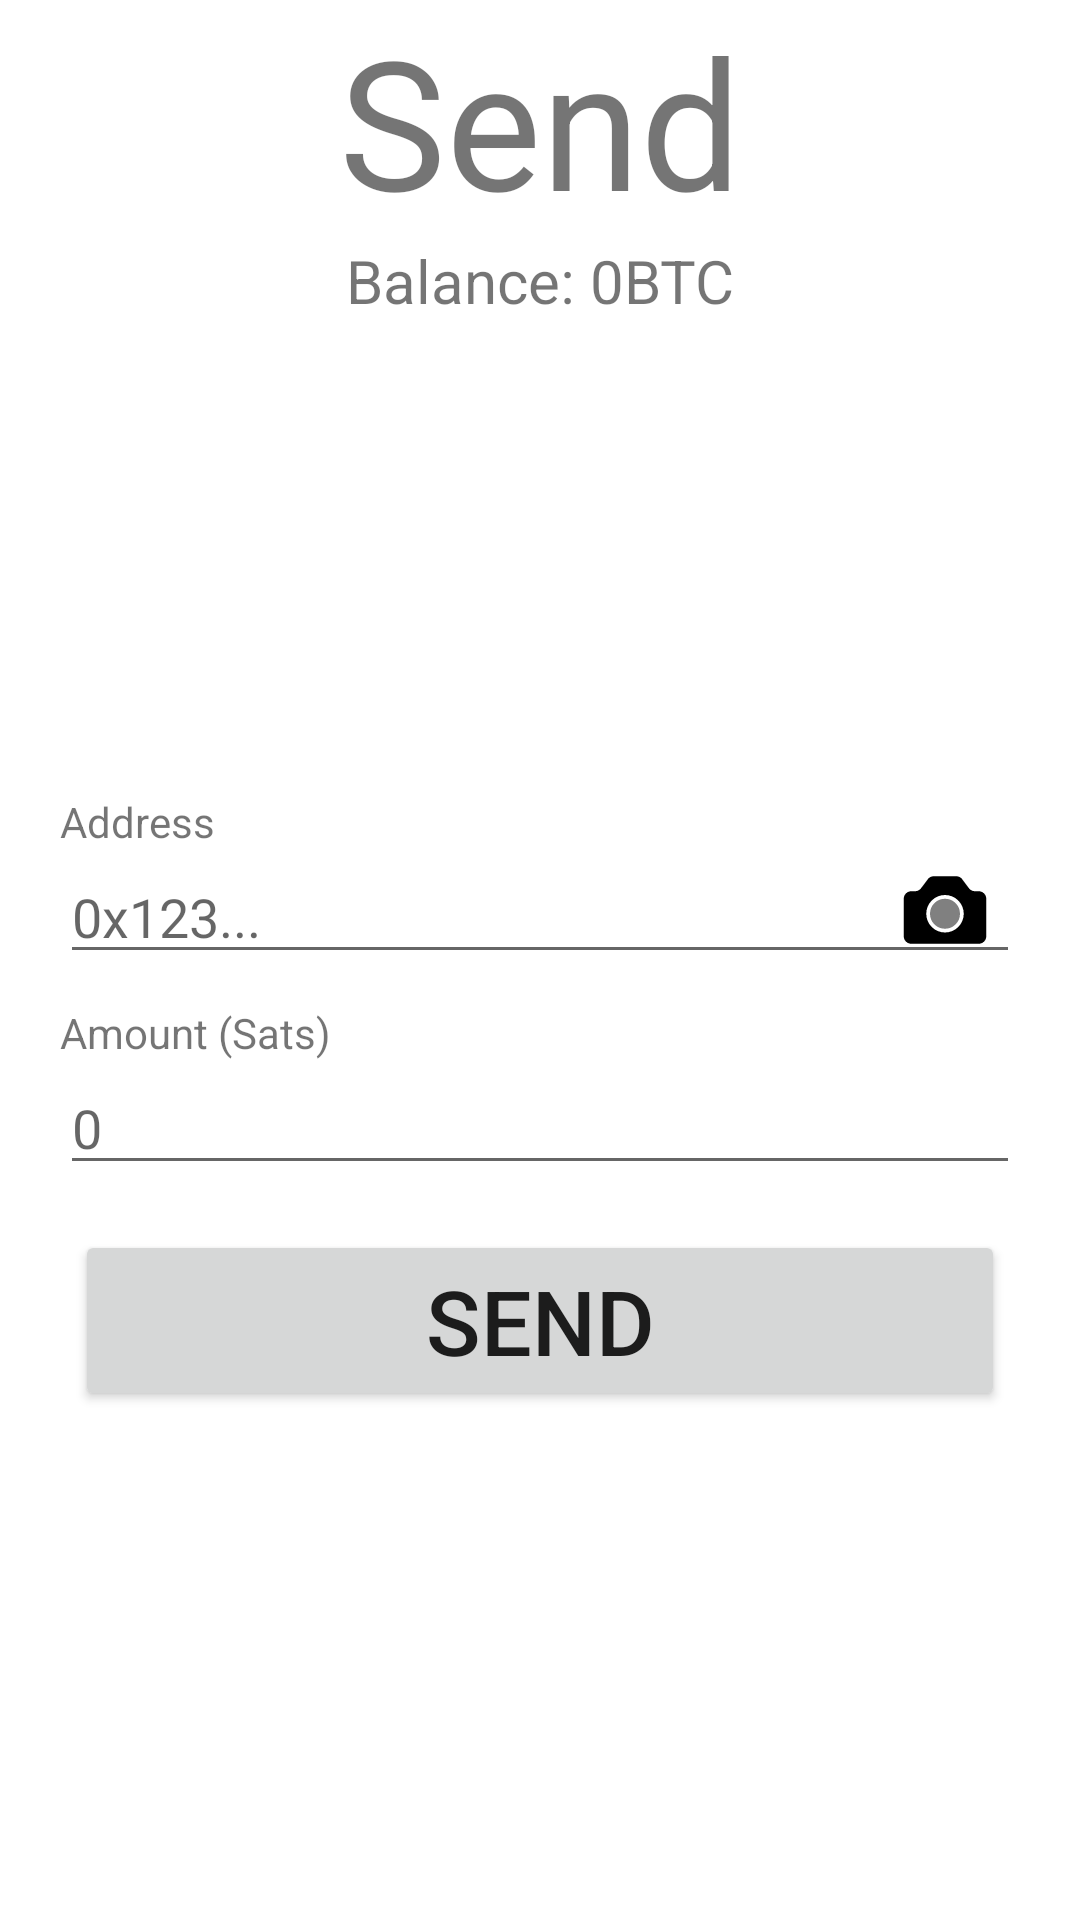

Screen size 1080px x 1920px. Icon name, then its box in pixels as (left=x1, top=y1, right=x2, bottom=y2):
camera: (left=903, top=876, right=987, bottom=944)
